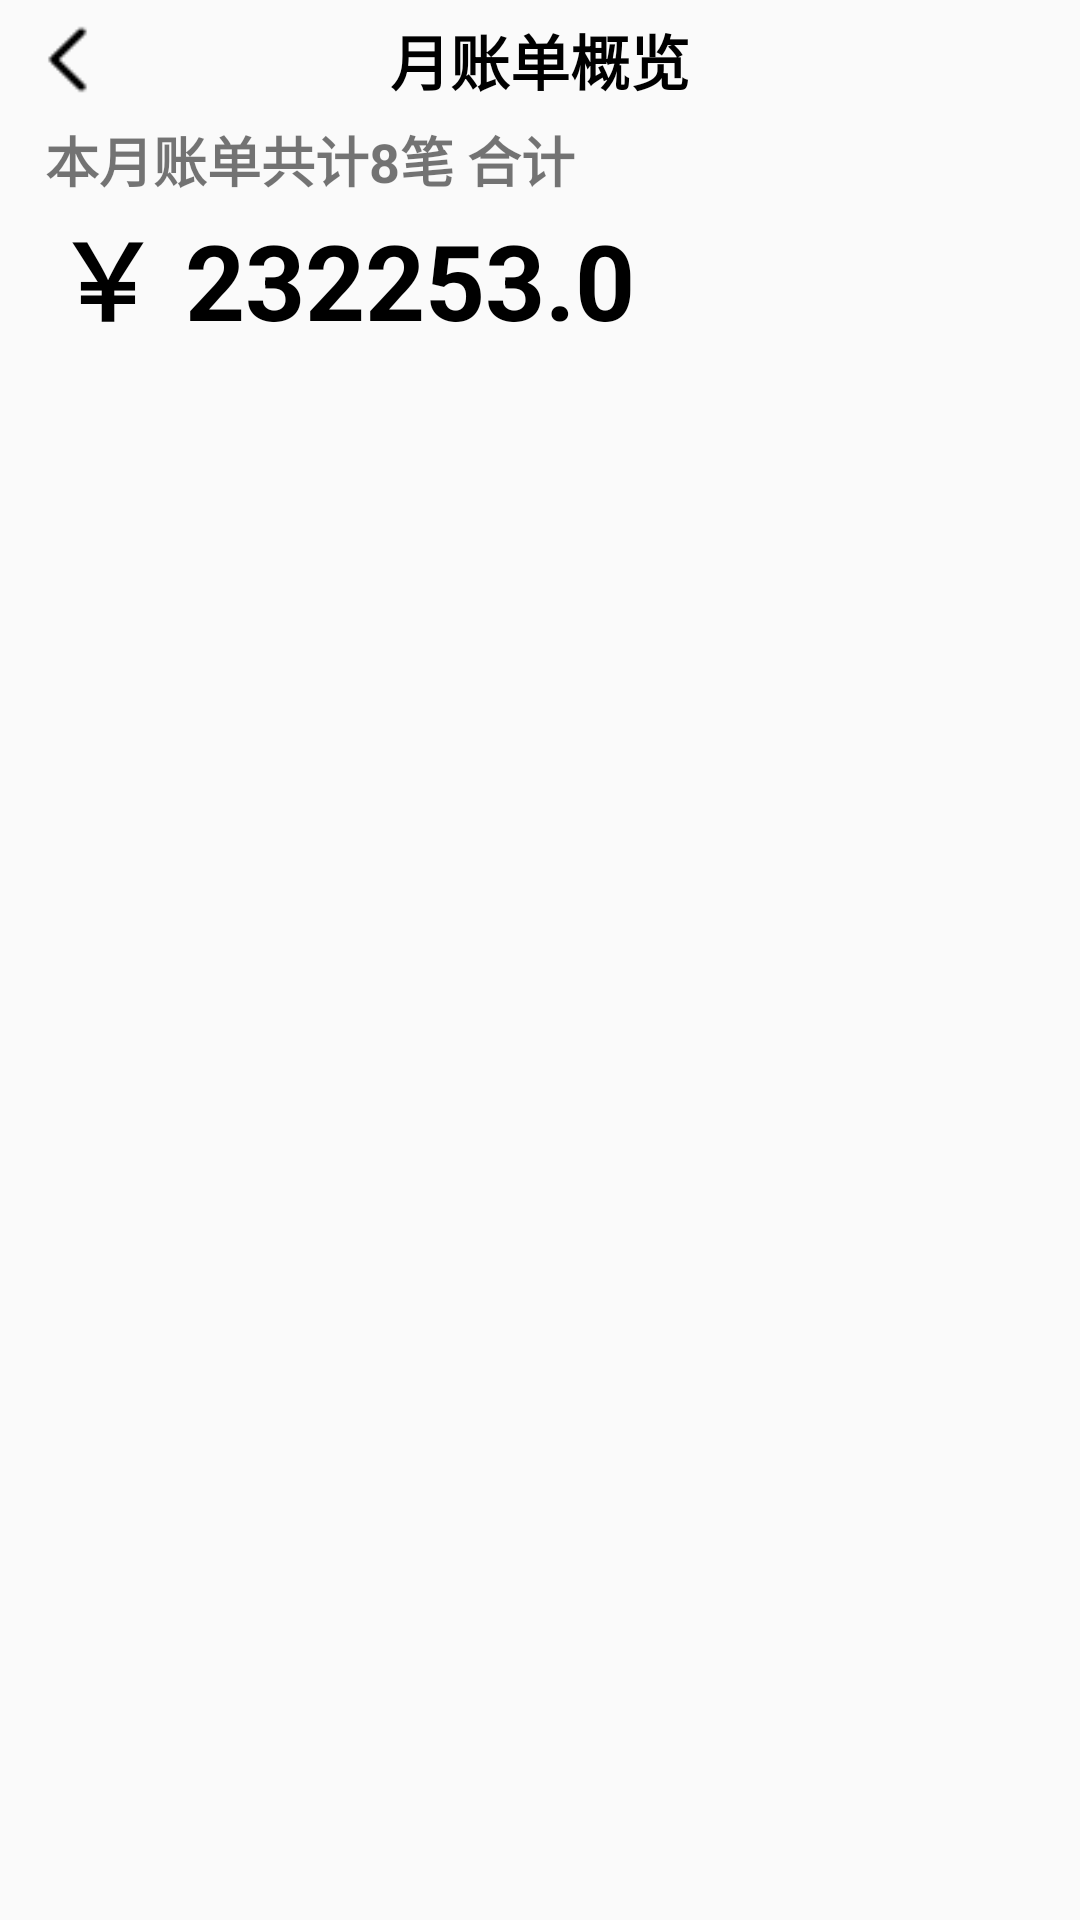

Icon bounding boxes for this 1080px x 1920px phone screenshot, format (x1, y1, x2, y2):
back: (48, 27, 87, 92)
